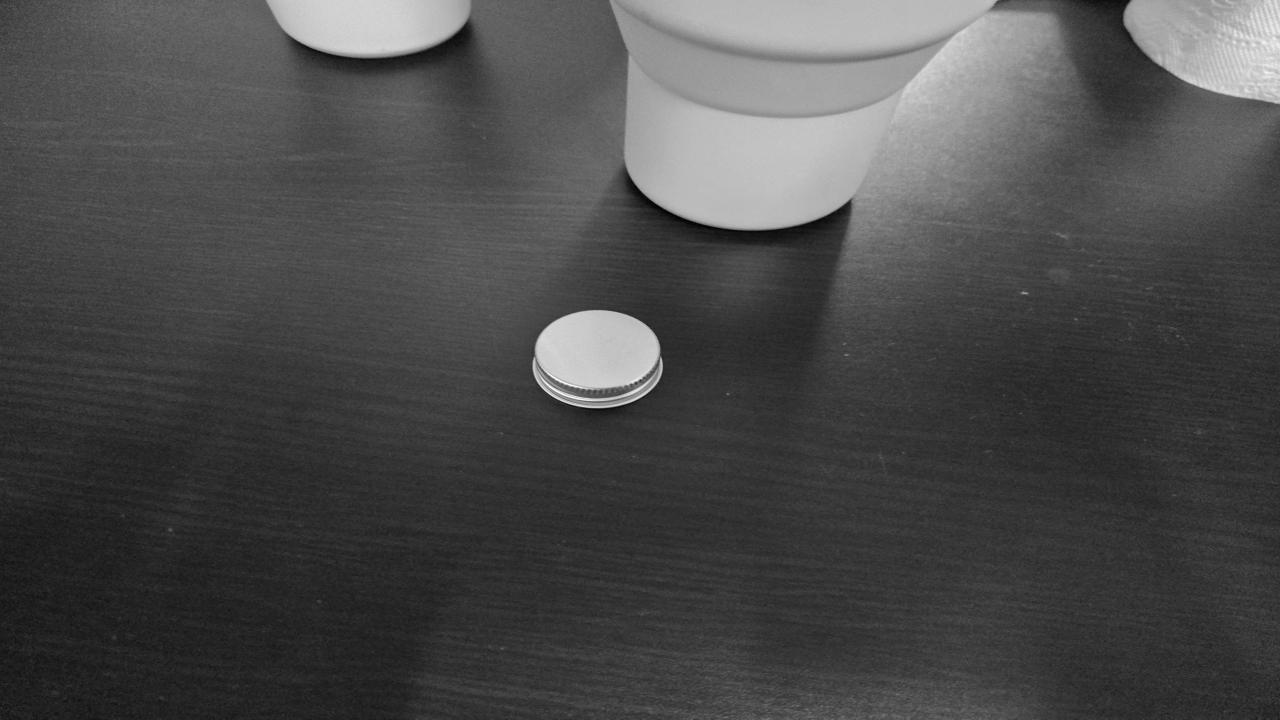bottle_cap: (526, 305, 670, 414)
